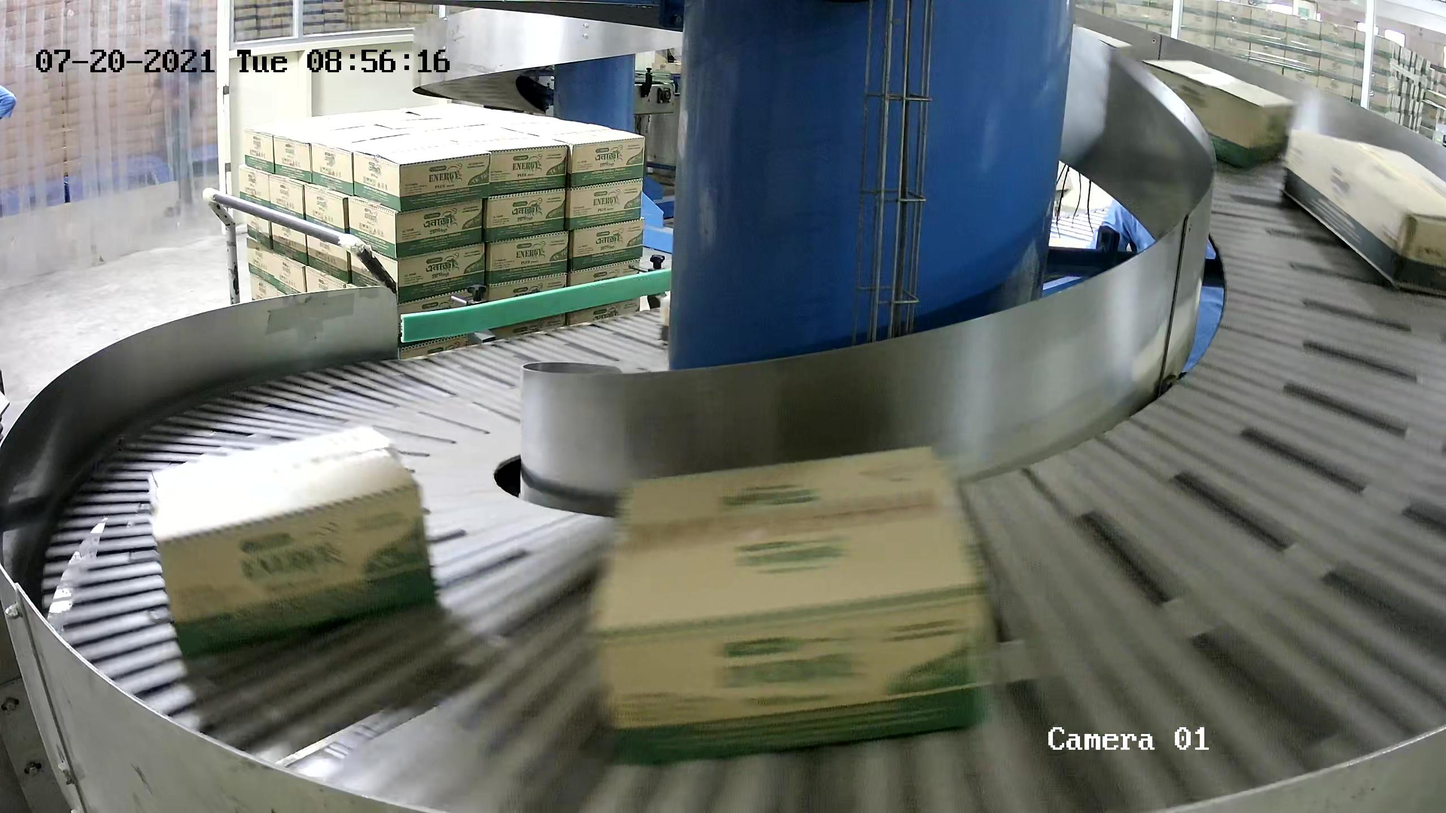Box: (580, 439, 1005, 770), (143, 415, 446, 662), (1280, 123, 1446, 298), (1140, 50, 1299, 173)
